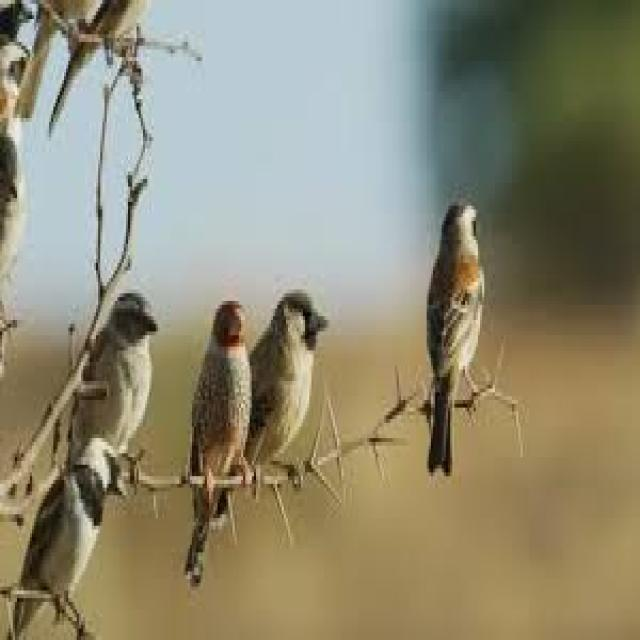bird: (4, 438, 130, 640), (230, 284, 329, 480), (423, 194, 488, 486), (63, 286, 159, 457)
